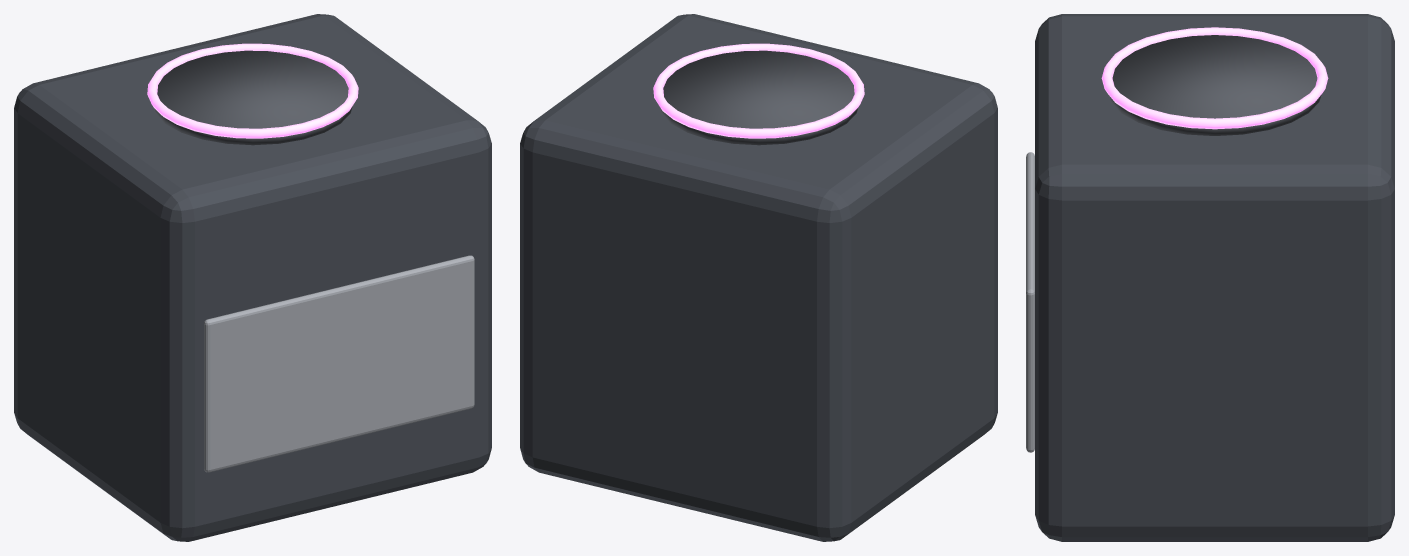
Rendered from nightstand_charger.glb.
The picture shows the model from 3 angles, left to right: view 1: azimuth 30°, elevation 25°; view 2: azimuth 150°, elevation 25°; view 3: azimuth 270°, elevation 25°; orthographic projection. The views are drawn at different scales.
Parts seen in each view (by area): view 1: GD_nightstand_charger__m0, GD_nightstand_charger__m3, GD_nightstand_charger__m1, GD_nightstand_charger__m2; view 2: GD_nightstand_charger__m0, GD_nightstand_charger__m1, GD_nightstand_charger__m2; view 3: GD_nightstand_charger__m0, GD_nightstand_charger__m1, GD_nightstand_charger__m2, GD_nightstand_charger__m3.
Part boxes in pixels (x1=…): GD_nightstand_charger__m0: x1=14, y1=14, x2=491, y2=541; GD_nightstand_charger__m3: x1=204, y1=255, x2=474, y2=472; GD_nightstand_charger__m1: x1=153, y1=50, x2=352, y2=145; GD_nightstand_charger__m2: x1=147, y1=43, x2=358, y2=138; GD_nightstand_charger__m0: x1=520, y1=14, x2=997, y2=541; GD_nightstand_charger__m1: x1=659, y1=50, x2=858, y2=145; GD_nightstand_charger__m2: x1=653, y1=43, x2=864, y2=138; GD_nightstand_charger__m0: x1=1035, y1=14, x2=1394, y2=541; GD_nightstand_charger__m1: x1=1108, y1=35, x2=1321, y2=135; GD_nightstand_charger__m2: x1=1101, y1=27, x2=1328, y2=129; GD_nightstand_charger__m3: x1=1026, y1=152, x2=1034, y2=452.
Size of the model in its own units: 0.45 by 0.4802 by 0.41.
